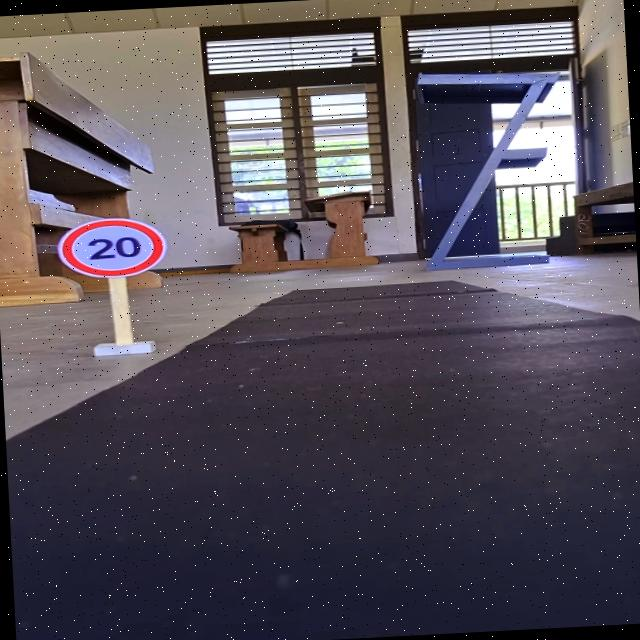Speed20: (49, 210, 179, 284)
